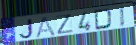4: (77, 11, 92, 32)
A: (35, 16, 57, 38)
D: (94, 7, 114, 31)
I: (118, 5, 126, 28)
J: (19, 18, 35, 40)
Z: (55, 13, 75, 35)
